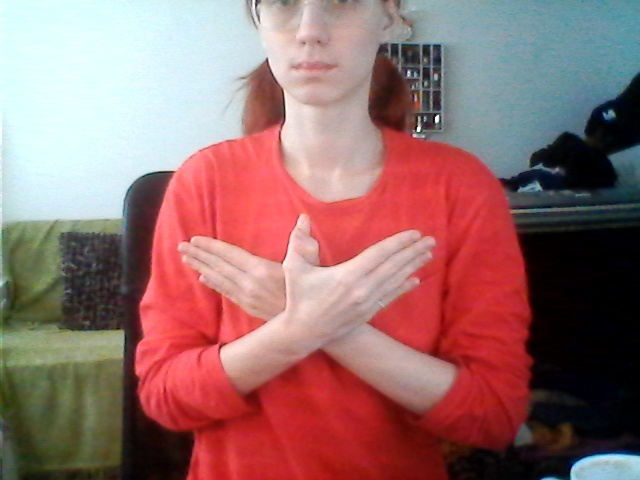lekar: (177, 210, 462, 387)
